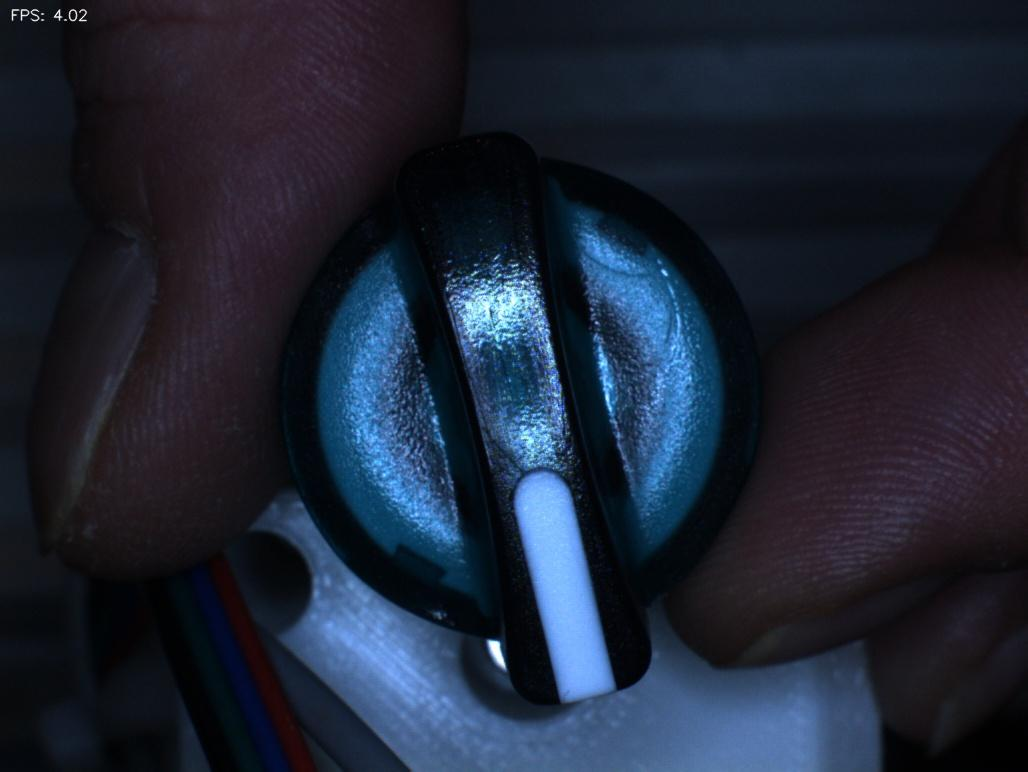Choc: (395, 574, 470, 657)
